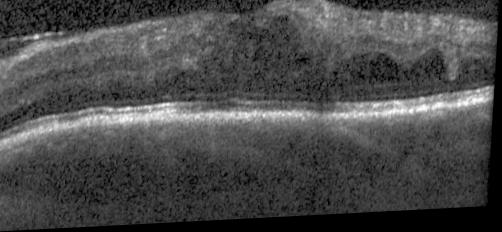intraretinal_cyst: (173, 17, 314, 101), (333, 55, 408, 92), (411, 54, 446, 84), (455, 63, 490, 84)
